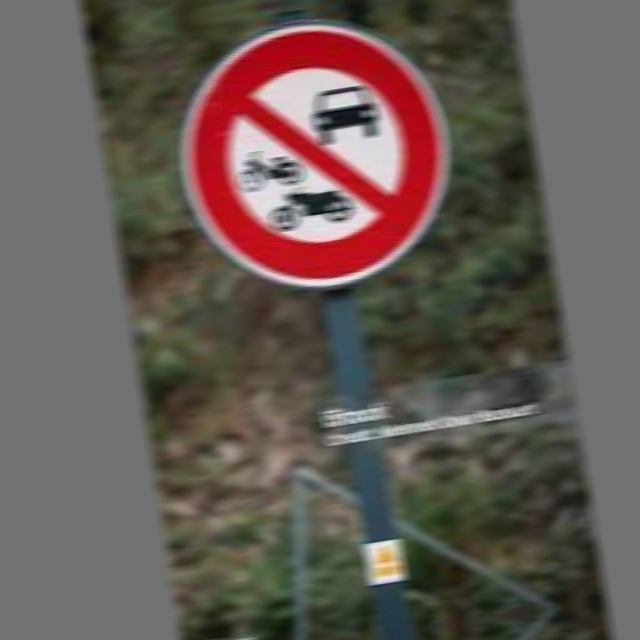All_Motor_Vehicles_Prohibited: (163, 1, 462, 303)
